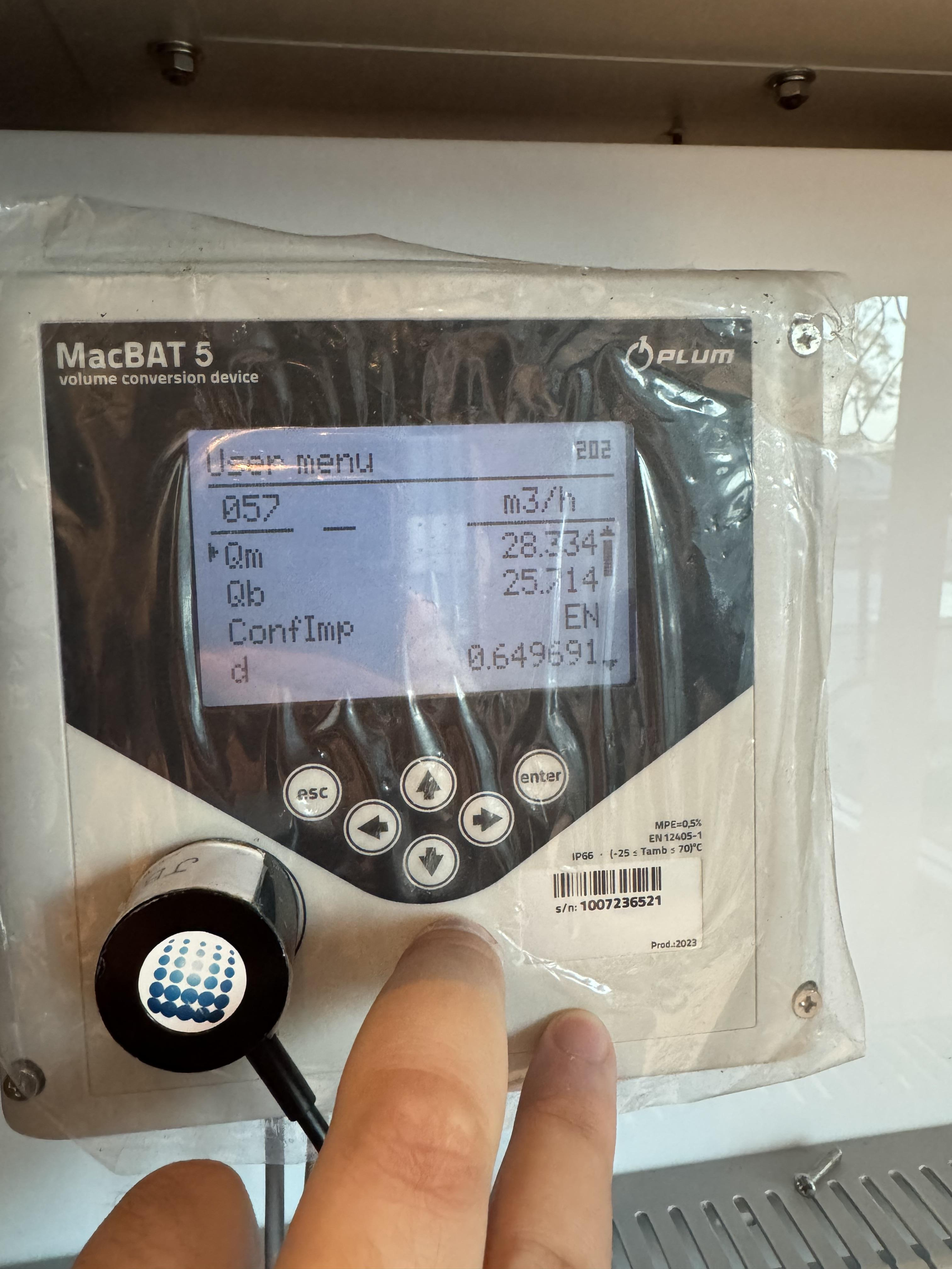digital_screen: (188, 409, 645, 708)
